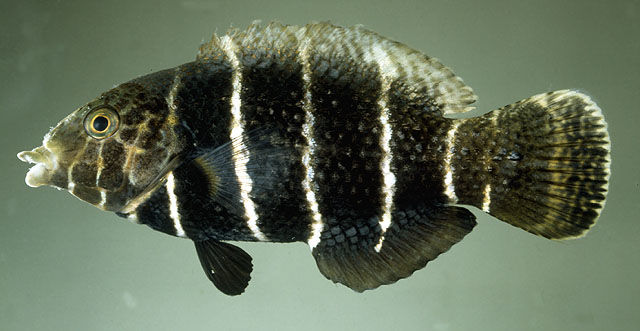fish: (16, 17, 613, 297)
